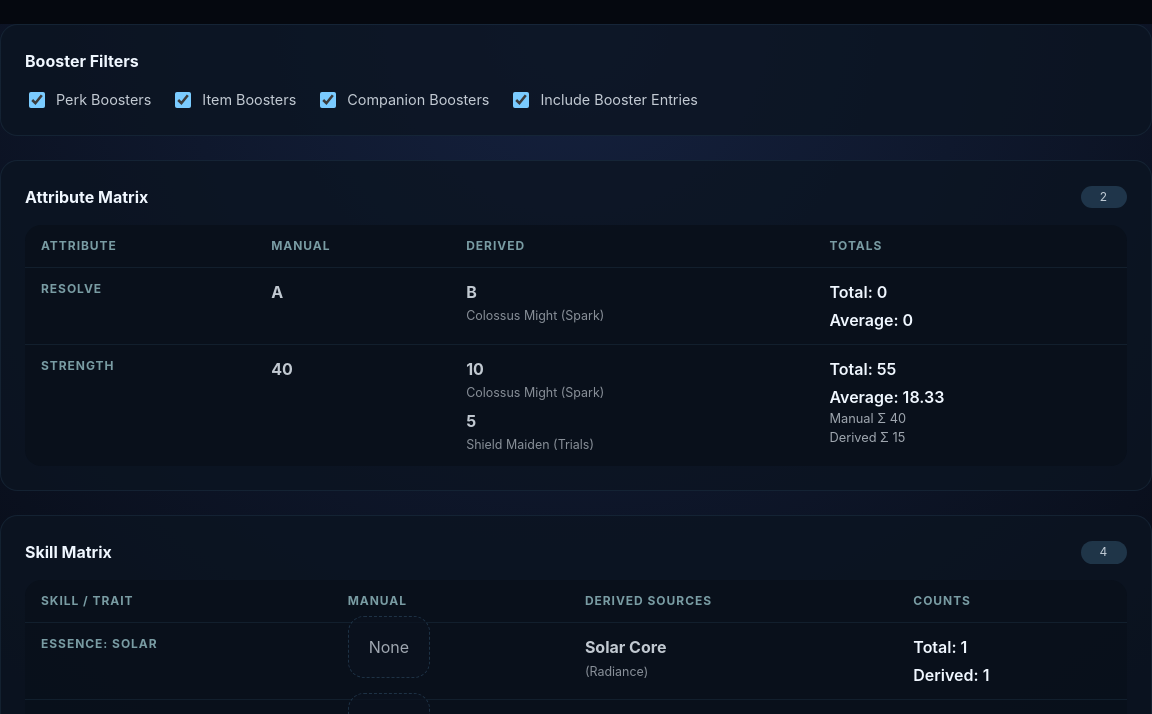
Scenario: PassportAggregations › retains manual entries when booster entries are hidden
Click the checkbox with test id "toggle-include-boosters" at (522, 100), box [514,92,530,108]
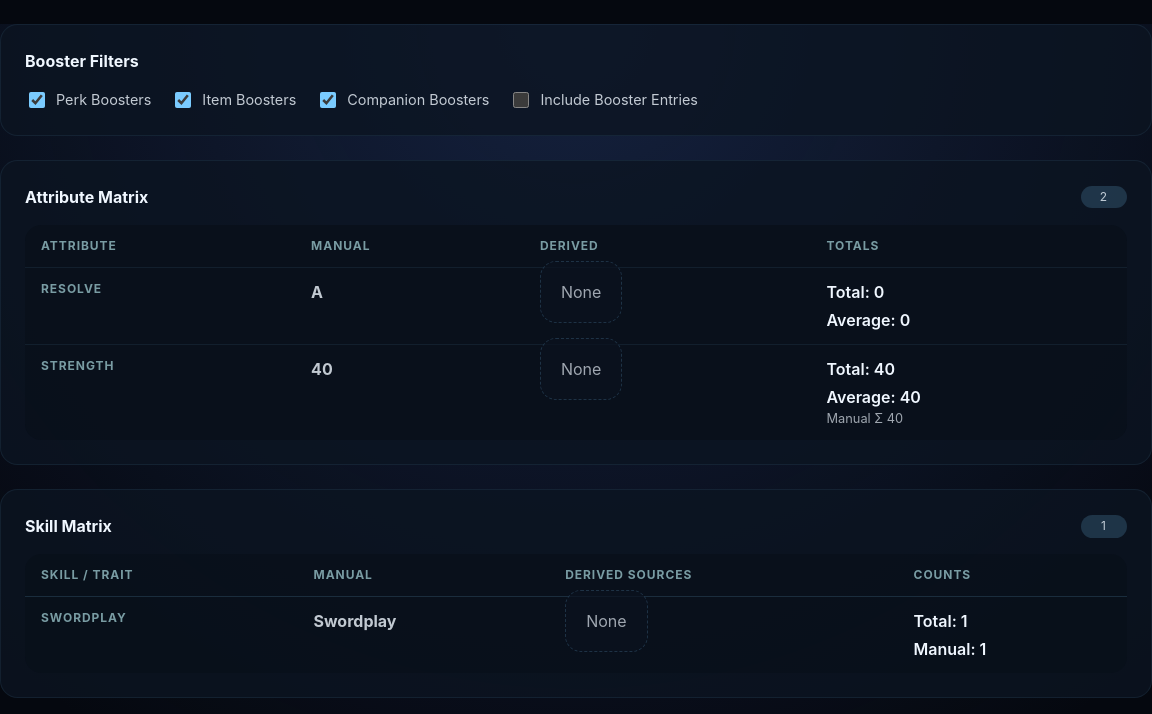
Check: the column heading "Swordplay" is shown, box [25,597,298,673]
Check: the cell with test id "attribute-total-strength" shows "Total: 40", box [810,344,1127,440]
